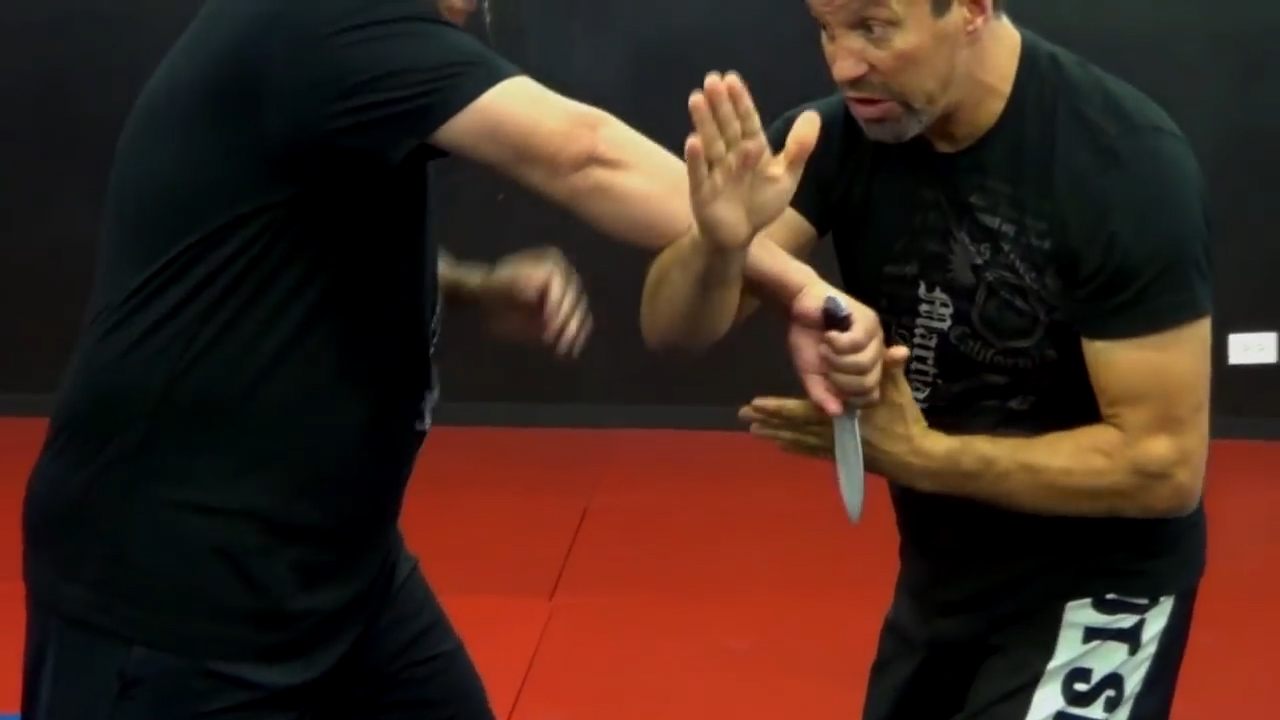knife: (783, 303, 885, 527)
